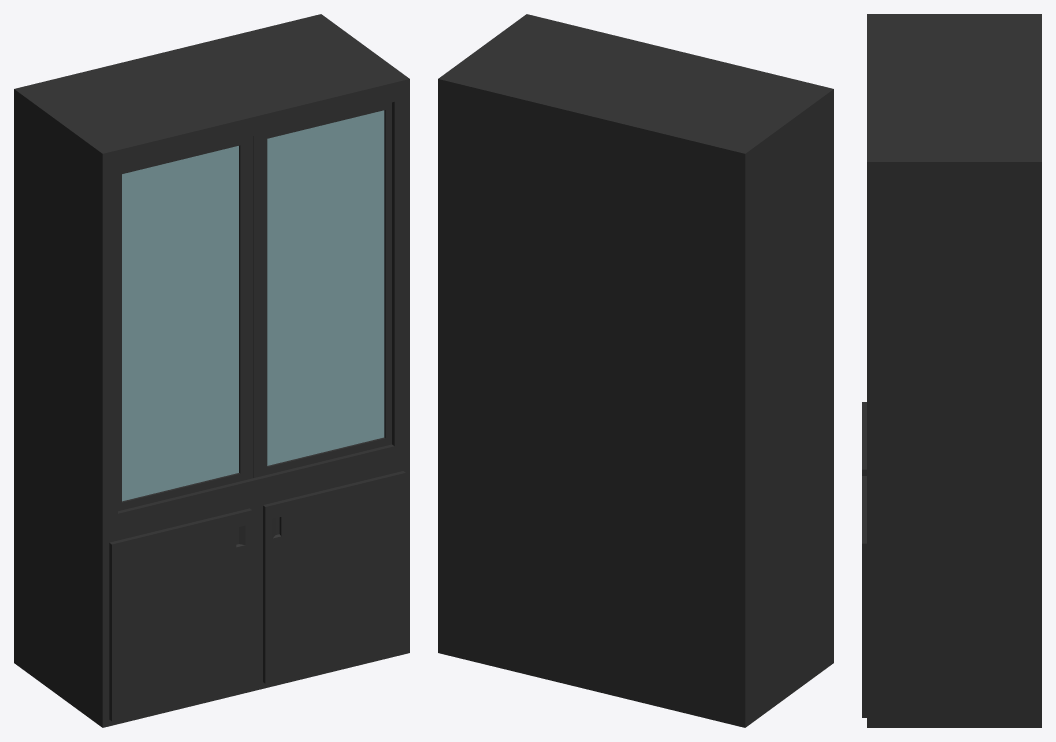
Rendered from cabinet1.fbx.
3 views of the same model, side by side, from view 1: azimuth 30°, elevation 25°; view 2: azimuth 150°, elevation 25°; view 3: azimuth 270°, elevation 25° (orthographic).
Visible parts, largest first — view 1: Cube; view 2: Cube; view 3: Cube.
Boxes of the visible parts, left/top/right/bottom form: Cube: left=14, top=14, right=409, bottom=727; Cube: left=438, top=14, right=833, bottom=727; Cube: left=862, top=14, right=1041, bottom=727.
Size of the model in its own units: 140 by 250 by 72.
